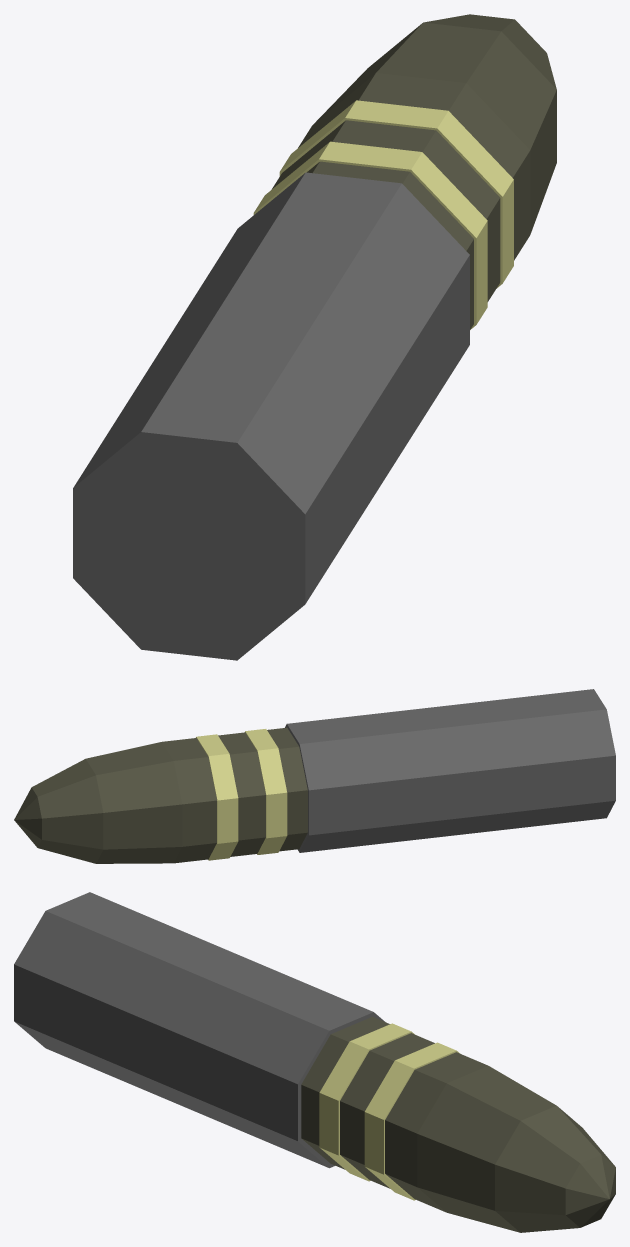
Rendered from ce_ammo2_rcl84_frag_a.obj.
The picture shows the model from 3 angles, top to bottom: view 1: azimuth 30°, elevation 25°; view 2: azimuth 150°, elevation 25°; view 3: azimuth 270°, elevation 25°; orthographic projection. The views are drawn at different scales.
Parts seen in each view (by area): view 1: ce_ammo2_rcl84_frag_a_0, ce_ammo2_rcl84_frag_a_6, ce_ammo2_rcl84_frag_a_5, ce_ammo2_rcl84_frag_a_3, ce_ammo2_rcl84_frag_a_4, ce_ammo2_rcl84_frag_a_2, ce_ammo2_rcl84_frag_a_1, ce_ammo2_rcl84_frag_a_7; view 2: ce_ammo2_rcl84_frag_a_0, ce_ammo2_rcl84_frag_a_6, ce_ammo2_rcl84_frag_a_7, ce_ammo2_rcl84_frag_a_5, ce_ammo2_rcl84_frag_a_3, ce_ammo2_rcl84_frag_a_4, ce_ammo2_rcl84_frag_a_2, ce_ammo2_rcl84_frag_a_1, ce_ammo2_rcl84_frag_a_8; view 3: ce_ammo2_rcl84_frag_a_0, ce_ammo2_rcl84_frag_a_6, ce_ammo2_rcl84_frag_a_7, ce_ammo2_rcl84_frag_a_5, ce_ammo2_rcl84_frag_a_3, ce_ammo2_rcl84_frag_a_2, ce_ammo2_rcl84_frag_a_4, ce_ammo2_rcl84_frag_a_1, ce_ammo2_rcl84_frag_a_8.
Boxes of the visible parts, <box> form: ce_ammo2_rcl84_frag_a_0: <box>73,172,469,660</box>; ce_ammo2_rcl84_frag_a_6: <box>313,22,556,234</box>; ce_ammo2_rcl84_frag_a_5: <box>298,73,530,260</box>; ce_ammo2_rcl84_frag_a_3: <box>271,120,500,301</box>; ce_ammo2_rcl84_frag_a_4: <box>279,100,513,288</box>; ce_ammo2_rcl84_frag_a_2: <box>253,141,487,329</box>; ce_ammo2_rcl84_frag_a_1: <box>307,161,473,329</box>; ce_ammo2_rcl84_frag_a_7: <box>423,14,556,89</box>; ce_ammo2_rcl84_frag_a_0: <box>285,689,615,852</box>; ce_ammo2_rcl84_frag_a_6: <box>86,742,182,863</box>; ce_ammo2_rcl84_frag_a_7: <box>32,759,103,863</box>; ce_ammo2_rcl84_frag_a_5: <box>162,738,216,863</box>; ce_ammo2_rcl84_frag_a_3: <box>218,732,265,856</box>; ce_ammo2_rcl84_frag_a_4: <box>196,734,238,860</box>; ce_ammo2_rcl84_frag_a_2: <box>245,729,287,854</box>; ce_ammo2_rcl84_frag_a_1: <box>267,727,307,851</box>; ce_ammo2_rcl84_frag_a_8: <box>14,787,41,847</box>; ce_ammo2_rcl84_frag_a_0: <box>14,892,384,1168</box>; ce_ammo2_rcl84_frag_a_6: <box>417,1066,556,1232</box>; ce_ammo2_rcl84_frag_a_7: <box>495,1105,614,1232</box>; ce_ammo2_rcl84_frag_a_5: <box>385,1052,488,1212</box>; ce_ammo2_rcl84_frag_a_3: <box>340,1033,434,1188</box>; ce_ammo2_rcl84_frag_a_2: <box>319,1023,414,1181</box>; ce_ammo2_rcl84_frag_a_4: <box>364,1042,460,1200</box>; ce_ammo2_rcl84_frag_a_1: <box>301,1016,389,1169</box>; ce_ammo2_rcl84_frag_a_8: <box>565,1154,615,1227</box>.
Size of the model in its own units: 0.6596 by 0.1662 by 0.6596.
